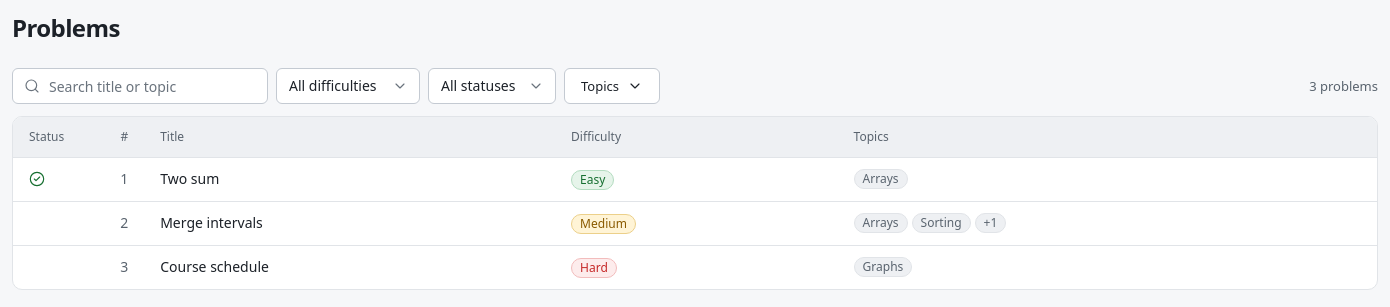
Test: filters by search, difficulty and status, and clears the filters
The width and height of the screenshot is (1390, 307).
Type "course" into the search field named "Search problems" at (140, 86), box [12, 68, 268, 104]
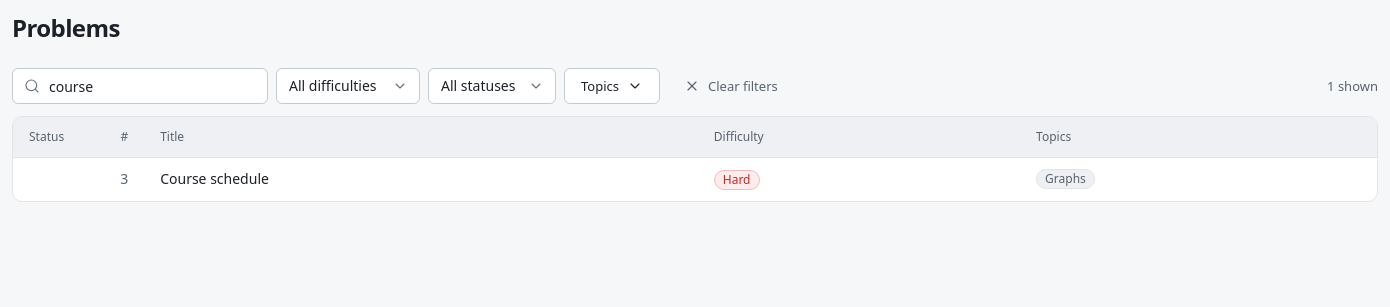
expect the number of rows is 2: met, box [13, 117, 1377, 157]; [13, 157, 1377, 201]
Click the button "Clear filters" at (731, 86), box [668, 68, 794, 104]
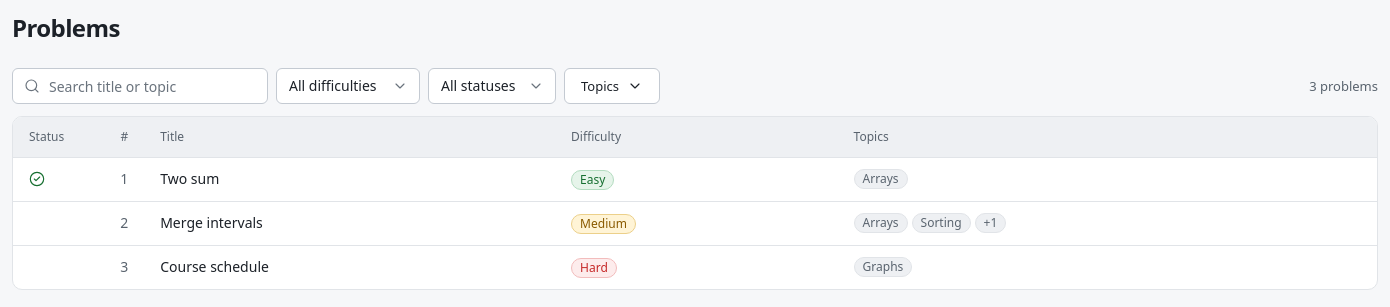
Select "Medium" in the dropdown named "Difficulty" at (348, 86), box [276, 68, 420, 104]
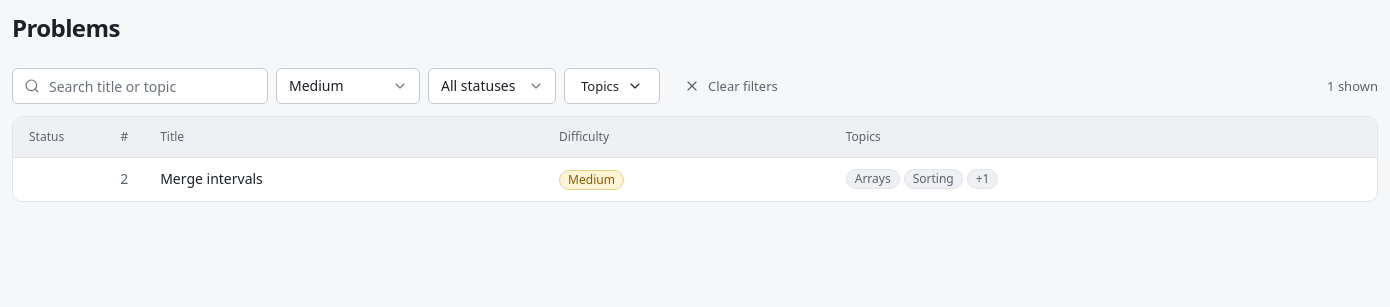
expect the link "Merge intervals" is shown: met, box [160, 169, 263, 188]
expect the link "Two sum" is gone: met
Select "All difficulties" in the dropdown named "Difficulty" at (348, 86), box [276, 68, 420, 104]
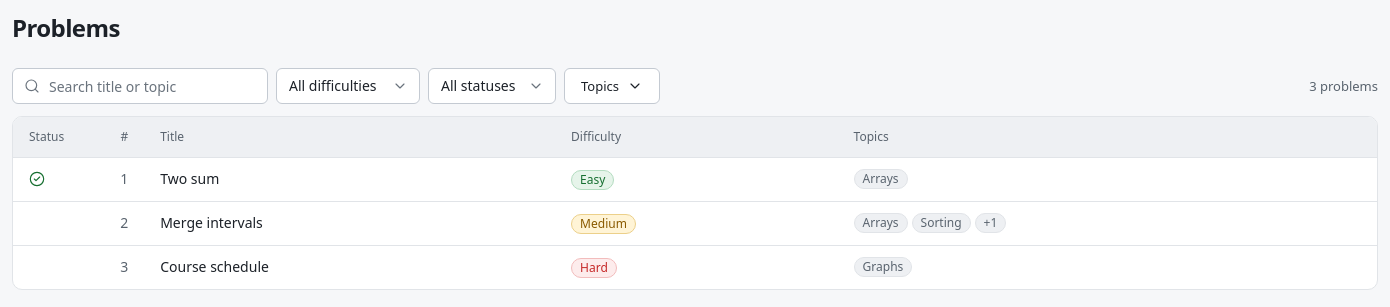
Select "Solved" in the dropdown named "Status" at (492, 86), box [428, 68, 556, 104]
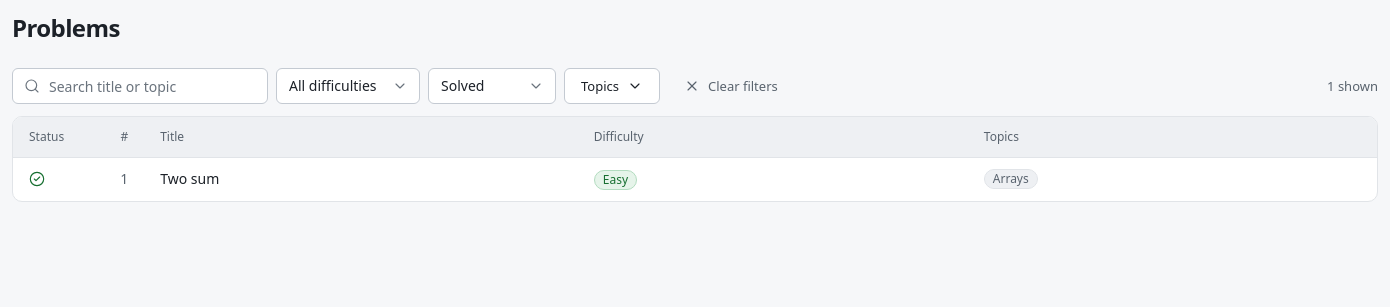
expect the number of rows is 2: met, box [13, 117, 1377, 157]; [13, 157, 1377, 201]
Select "Unsolved" in the dropdown named "Status" at (492, 86), box [428, 68, 556, 104]
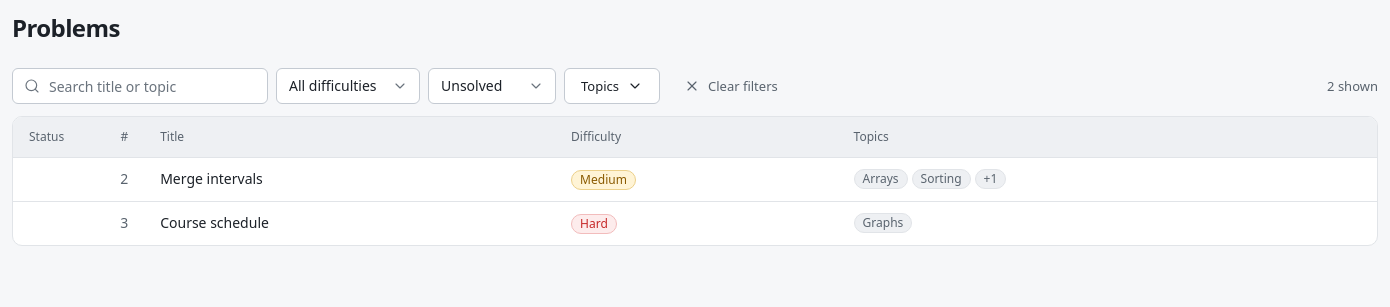
expect the link "Two sum" is gone: met
